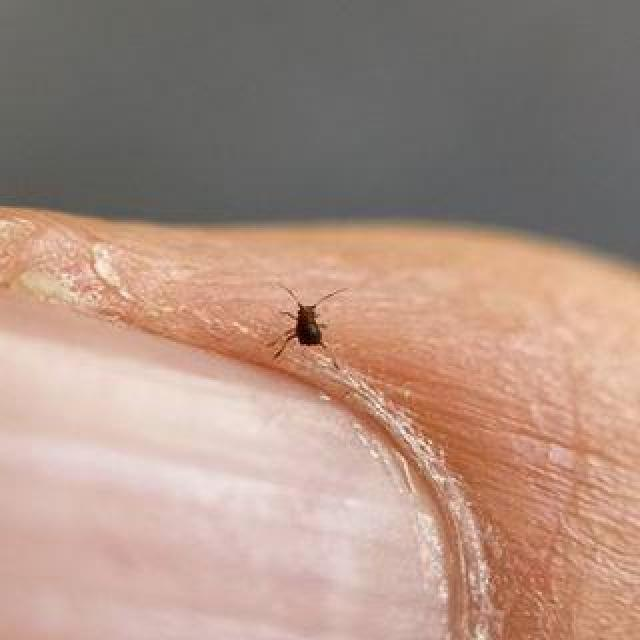aphid: (274, 286, 336, 374)
